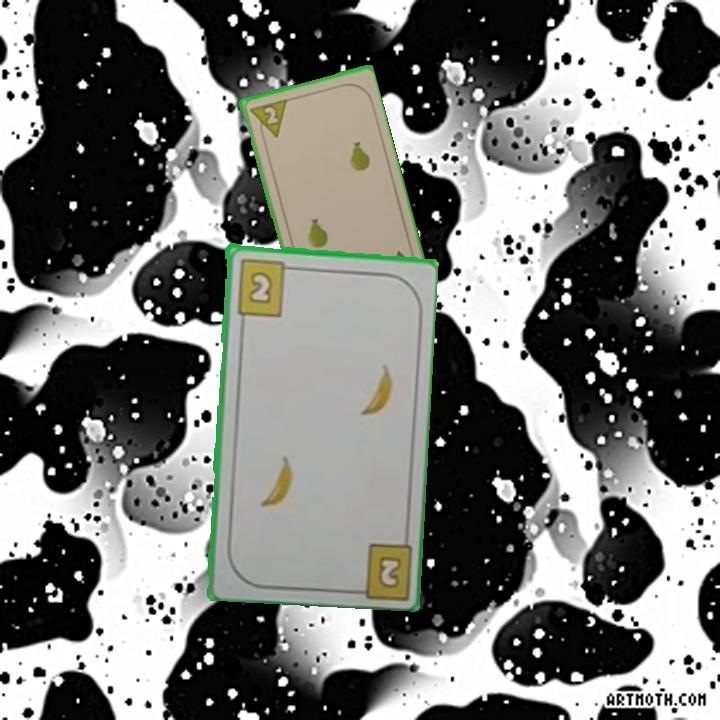2b: (233, 255, 297, 318), (374, 552, 404, 592)
2p: (246, 95, 289, 143)
